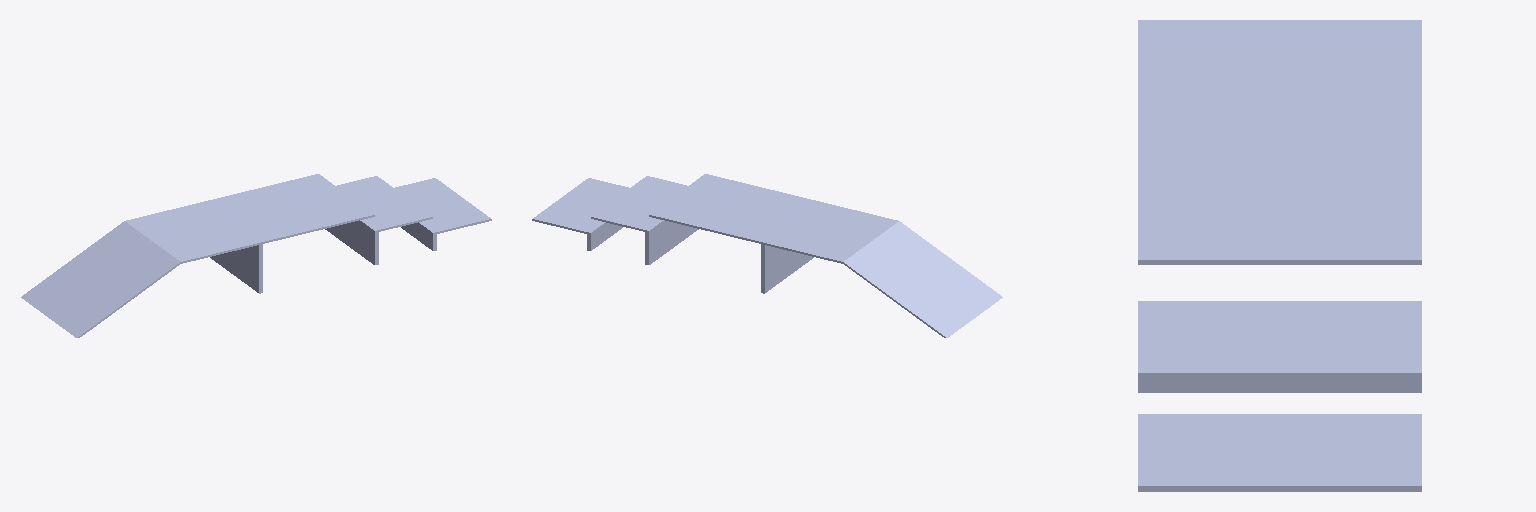
robot.urdf — map25:
<?xml version="1.0" encoding="utf-8"?>
<!-- This URDF was automatically created by SolidWorks to URDF Exporter! Originally created by [author] ([email redacted]) 
     Commit Version: 1.6.0-1-g15f4949  Build Version: 1.6.7594.29634
     For more information, please see http://wiki.ros.org/sw_urdf_exporter -->
<robot
  name="map25">
  <link
    name="map25">
    <inertial>
      <origin
        xyz="0.107548796793732 2.22044604925031E-16 -0.09645283014845"
        rpy="0 0 0" />
      <mass
        value="15.4085169247939" />
      <inertia
        ixx="0.394499374632754"
        ixy="-2.93983648361465E-17"
        ixz="-0.173985034249233"
        iyy="1.64704070538689"
        iyz="2.44222908607475E-17"
        izz="1.89456286928721" />
    </inertial>
    <visual>
      <origin
        xyz="0 0 0"
        rpy="0 0 0" />
      <geometry>
        <mesh
          filename="package://map25/meshes/map25.STL" />
      </geometry>
      <material
        name="">
        <color
          rgba="0.792156862745098 0.819607843137255 0.933333333333333 1" />
      </material>
    </visual>
    <collision>
      <origin
        xyz="0 0 0"
        rpy="0 0 0" />
      <geometry>
        <mesh
          filename="package://map25/meshes/map25.STL" />
      </geometry>
    </collision>
  </link>
</robot>

--- Facts derived from the render (not from the file) ---
Views: 3 orthographic renders of the robot side by side, from view 1: azimuth 30°, elevation 25°; view 2: azimuth 150°, elevation 25°; view 3: azimuth 270°, elevation 25°.
Robot: map25 — 1 links, 0 joints (none); root link map25; default pose: all joints at 0.
Links seen in each view (by area): view 1: map25; view 2: map25; view 3: map25.
Link boxes in pixels (bbox=[...]): map25: bbox=[21, 174, 491, 337]; map25: bbox=[532, 174, 1002, 337]; map25: bbox=[1138, 20, 1421, 491].
Size in the robot's own frame: 2.13 by 0.5 by 0.25 metres.
Meshes: 1 distinct files referenced, 1 mesh visuals loaded (1 binary STL).